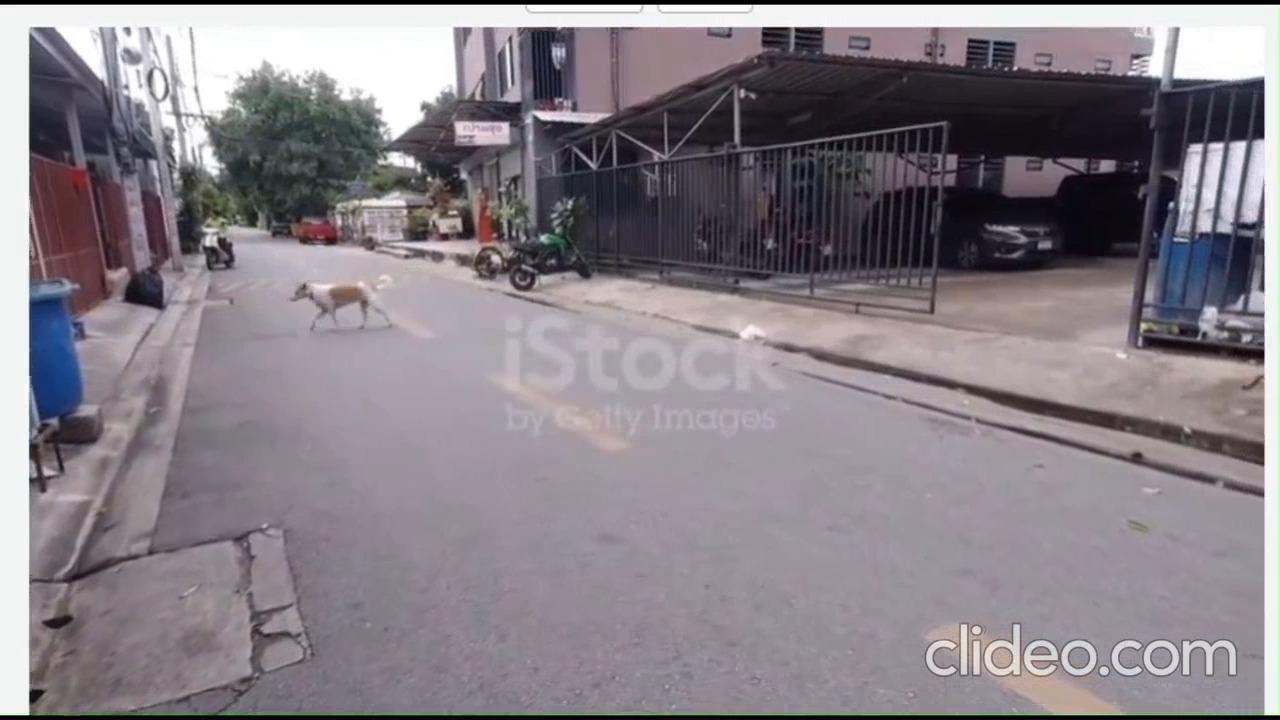dog: (289, 274, 390, 346)
